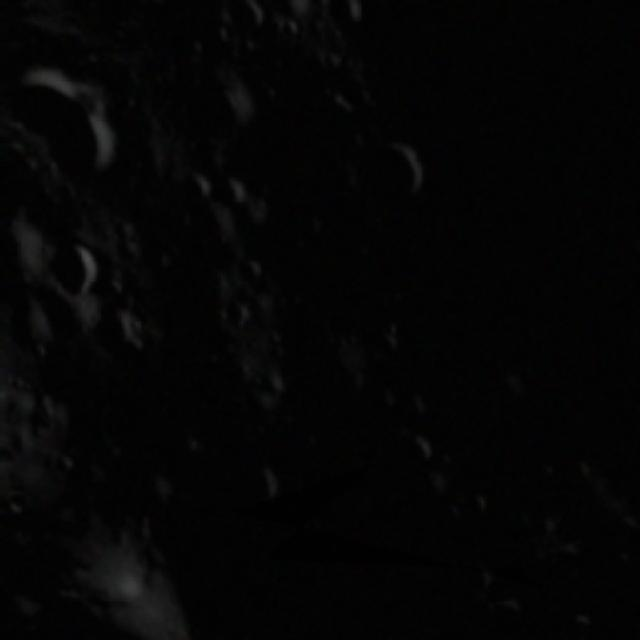crater: (238, 300, 380, 443), (328, 116, 444, 233), (294, 232, 391, 330), (32, 97, 128, 191), (28, 222, 115, 309), (567, 211, 640, 306), (70, 288, 153, 370), (294, 0, 412, 49), (131, 504, 203, 578), (480, 296, 551, 367), (222, 450, 290, 516), (380, 415, 446, 480), (0, 198, 40, 296), (440, 548, 502, 609), (475, 434, 537, 494), (198, 161, 254, 217), (380, 378, 434, 432), (213, 0, 275, 45), (567, 275, 619, 328), (193, 78, 244, 130), (164, 162, 216, 212), (311, 0, 369, 40), (211, 286, 258, 334), (34, 438, 81, 485), (283, 204, 328, 248), (191, 293, 234, 336), (284, 419, 325, 461), (452, 482, 492, 522), (225, 246, 264, 285), (612, 201, 640, 254), (273, 228, 310, 264), (371, 309, 404, 343), (168, 303, 200, 335), (615, 396, 640, 430), (626, 334, 640, 380)
